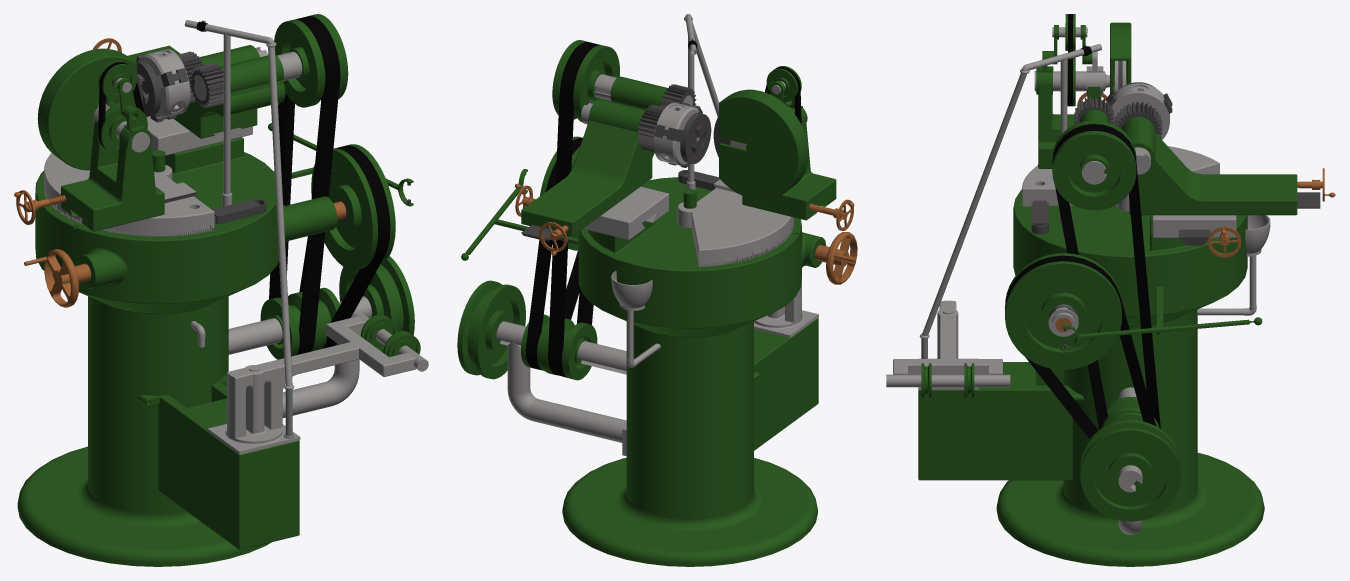
Rendered from Rodamientos GLB.glb.
3 views of the same model, side by side, from view 1: azimuth 30°, elevation 25°; view 2: azimuth 150°, elevation 25°; view 3: azimuth 270°, elevation 25° (orthographic). The views are drawn at different scales.
Parts seen in each view (by area): view 1: Obj_stitch_result_stitch_all_1, stitch_result_stitch_all, Obj_stitch_result_stitch_all, Obj_stitch_result_stitch_all_57, Obj_stitch_result_stitch_all_48, Obj_stitch_result_stitch_all_54, Obj_stitch_result_stitch_all_16, Obj_stitch_result_stitch_all_42, Obj_stitch_result_stitch_all_14, Obj_stitch_result_stitch_all_38, Obj_stitch_result_stitch_all_56, Obj_stitch_result_stitch_all_29 (+20 smaller); view 2: Obj_stitch_result_stitch_all_1, Obj_stitch_result_stitch_all_42, Obj_stitch_result_stitch_all_54, stitch_result_stitch_all, Obj_stitch_result_stitch_all_14, Obj_stitch_result_stitch_all_29, Obj_stitch_result_stitch_all_57, Obj_stitch_result_stitch_all_26, Obj_stitch_result_stitch_all_56, Obj_stitch_result_stitch_all_31, Obj_stitch_result_stitch_all_38, Obj_stitch_result_stitch_all_48 (+18 smaller); view 3: Obj_stitch_result_stitch_all_1, stitch_result_stitch_all, Obj_stitch_result_stitch_all_16, Obj_stitch_result_stitch_all_42, Obj_stitch_result_stitch_all_29, Obj_stitch_result_stitch_all_38, Obj_stitch_result_stitch_all_57, Obj_stitch_result_stitch_all, Obj_stitch_result_stitch_all_56, Obj_stitch_result_stitch_all_14, Obj_stitch_result_stitch_all_5, Obj_stitch_result_stitch_all_48 (+13 smaller).
Boxes of the visible parts, bbox=[...] form: Obj_stitch_result_stitch_all_1: bbox=[17, 137, 337, 566]; stitch_result_stitch_all: bbox=[138, 374, 299, 549]; Obj_stitch_result_stitch_all: bbox=[207, 312, 428, 454]; Obj_stitch_result_stitch_all_57: bbox=[269, 16, 340, 354]; Obj_stitch_result_stitch_all_48: bbox=[61, 121, 164, 231]; Obj_stitch_result_stitch_all_54: bbox=[37, 48, 136, 170]; Obj_stitch_result_stitch_all_16: bbox=[311, 144, 395, 269]; Obj_stitch_result_stitch_all_42: bbox=[127, 45, 285, 138]; Obj_stitch_result_stitch_all_14: bbox=[44, 153, 214, 236]; Obj_stitch_result_stitch_all_38: bbox=[274, 14, 348, 107]; Obj_stitch_result_stitch_all_56: bbox=[299, 145, 390, 348]; Obj_stitch_result_stitch_all_29: bbox=[339, 256, 414, 352]; Obj_stitch_result_stitch_all_1: bbox=[494, 177, 826, 566]; Obj_stitch_result_stitch_all_42: bbox=[521, 76, 668, 236]; Obj_stitch_result_stitch_all_54: bbox=[719, 89, 808, 200]; stitch_result_stitch_all: bbox=[754, 318, 818, 450]; Obj_stitch_result_stitch_all_14: bbox=[677, 179, 793, 267]; Obj_stitch_result_stitch_all_29: bbox=[457, 280, 525, 379]; Obj_stitch_result_stitch_all_57: bbox=[548, 42, 599, 377]; Obj_stitch_result_stitch_all_26: bbox=[507, 341, 626, 456]; Obj_stitch_result_stitch_all_56: bbox=[525, 137, 582, 370]; Obj_stitch_result_stitch_all_31: bbox=[583, 186, 668, 239]; Obj_stitch_result_stitch_all_38: bbox=[552, 40, 619, 122]; Obj_stitch_result_stitch_all_48: bbox=[742, 120, 836, 220]; Obj_stitch_result_stitch_all_1: bbox=[996, 190, 1264, 566]; stitch_result_stitch_all: bbox=[918, 362, 1084, 480]; Obj_stitch_result_stitch_all_16: bbox=[1005, 253, 1121, 369]; Obj_stitch_result_stitch_all_42: bbox=[1079, 109, 1297, 215]; Obj_stitch_result_stitch_all_29: bbox=[1080, 420, 1180, 521]; Obj_stitch_result_stitch_all_38: bbox=[1052, 120, 1136, 210]; Obj_stitch_result_stitch_all_57: bbox=[1052, 124, 1160, 429]; Obj_stitch_result_stitch_all: bbox=[886, 300, 1010, 389]; Obj_stitch_result_stitch_all_56: bbox=[1005, 255, 1155, 438]; Obj_stitch_result_stitch_all_14: bbox=[1021, 146, 1219, 211]; Obj_stitch_result_stitch_all_5: bbox=[919, 69, 1029, 338]; Obj_stitch_result_stitch_all_48: bbox=[1038, 87, 1101, 168].
Bounding box in the file's own units: 1.33 × 1.56 × 1.34.
